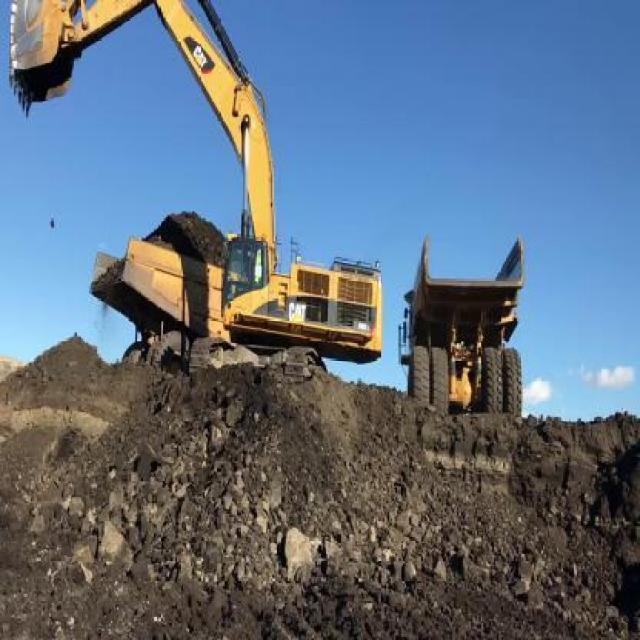Dump Truck: (396, 232, 526, 414), (91, 222, 226, 358)
Excavator: (8, 0, 384, 385)
